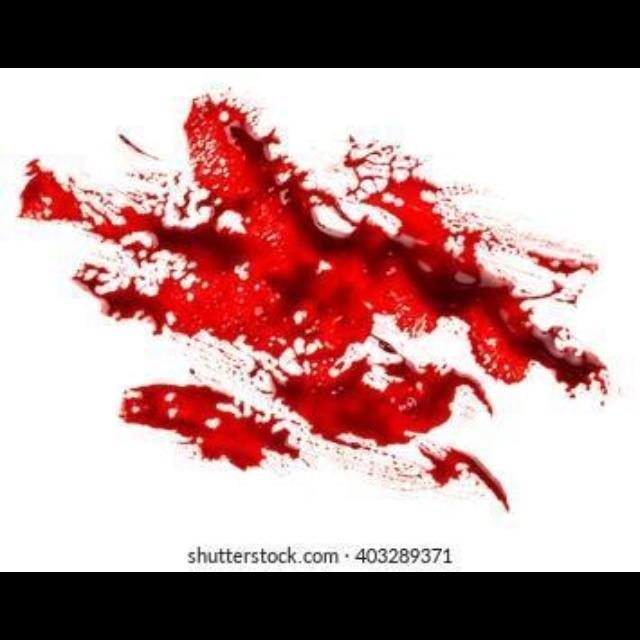blood: (22, 95, 609, 530)
